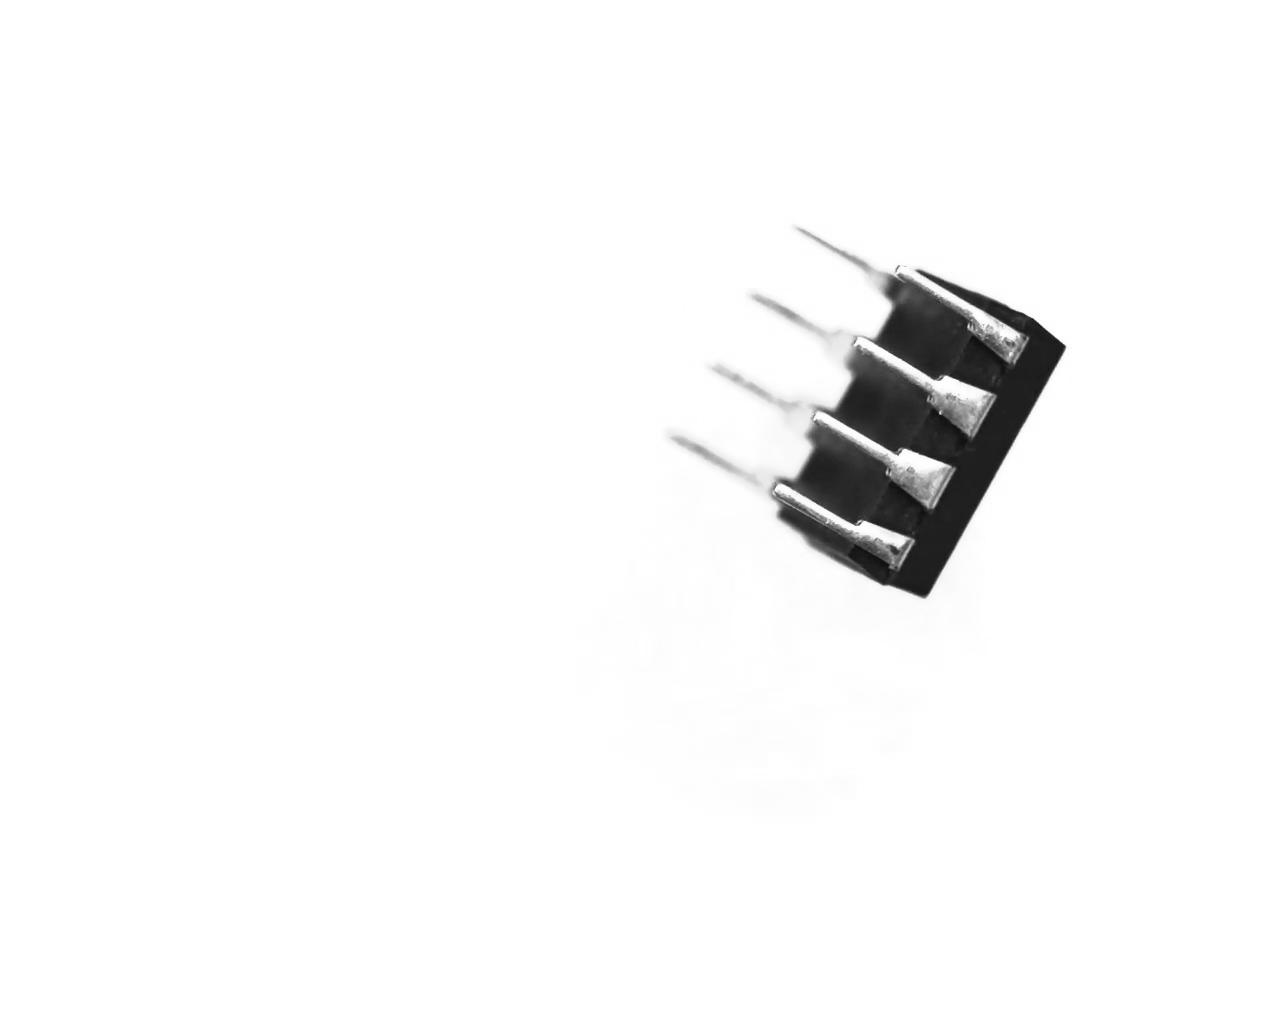Leg: (894, 249, 1033, 371), (851, 320, 997, 435), (765, 475, 904, 581), (815, 412, 954, 514), (702, 351, 835, 448), (745, 277, 874, 376), (789, 222, 909, 311), (649, 427, 774, 501)
